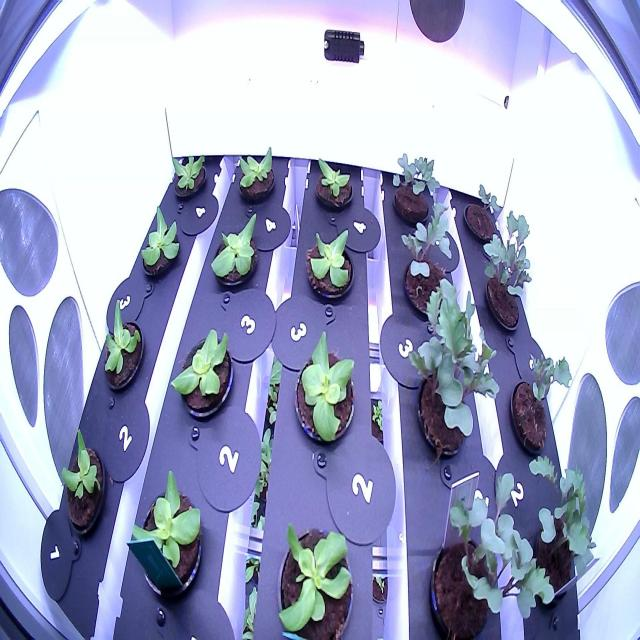young: (120, 458, 218, 621), (265, 514, 359, 639), (281, 322, 366, 451), (166, 319, 243, 432), (54, 419, 112, 546), (98, 293, 152, 400), (207, 209, 272, 296), (302, 219, 359, 307), (130, 201, 186, 287), (307, 148, 364, 221), (228, 141, 283, 212), (168, 135, 209, 208)
